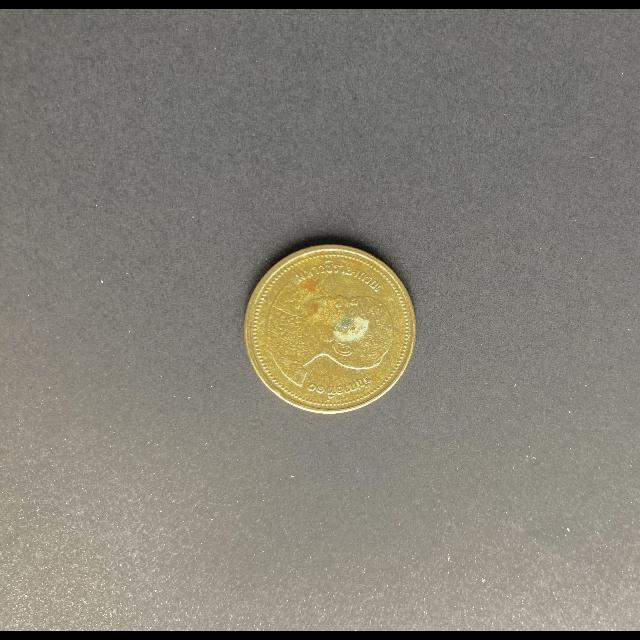2 Bath: (244, 240, 421, 419)
